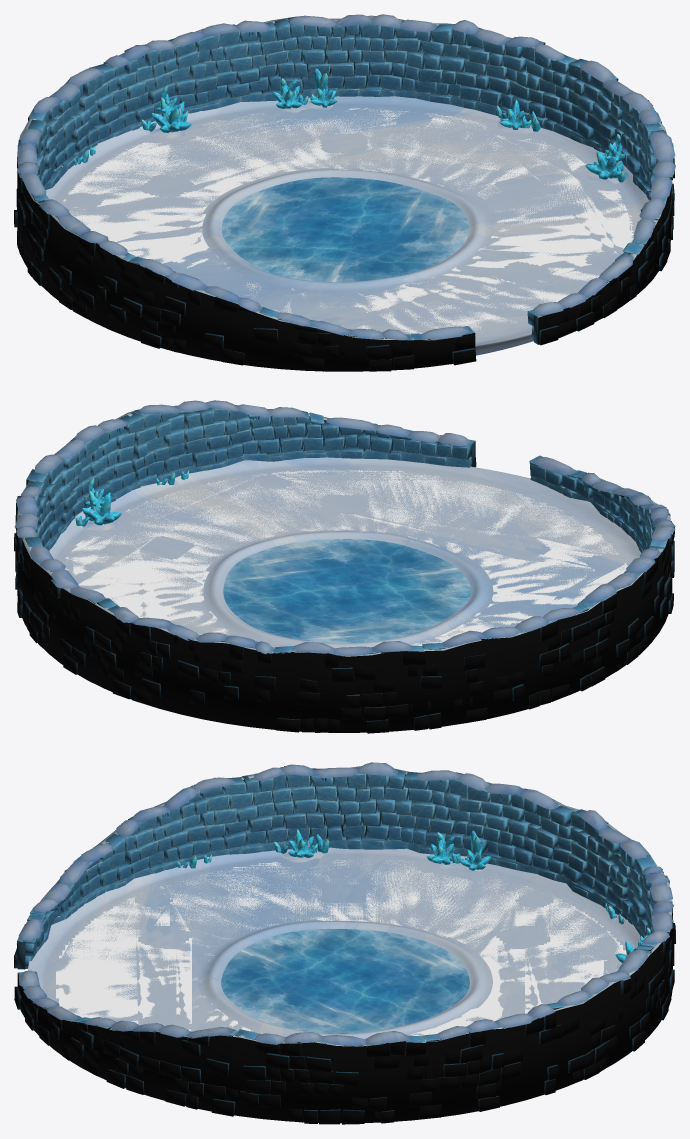
Rendered from r01_arena.glb.
3 renders of one model, top to bottom at view 1: azimuth 30°, elevation 25°; view 2: azimuth 150°, elevation 25°; view 3: azimuth 270°, elevation 25°, orthographic.
Visible parts, largest first — view 1: floor_r01_etapa1, wall_blocos_empilhados, NAV_andavel, wall_nucleo_juntas, wall_neve_acumulada, floor_lago_gelo_exterior, floor_lago_gelo_centro, torres_gemeas, torre_gelo, torre_gelo_tufo_0_1, cristais_leque; view 2: floor_r01_etapa1, wall_blocos_empilhados, wall_nucleo_juntas, NAV_andavel, floor_lago_gelo_exterior, wall_neve_acumulada, floor_lago_gelo_centro, torre_gelo; view 3: wall_blocos_empilhados, floor_r01_etapa1, wall_nucleo_juntas, NAV_andavel, floor_lago_gelo_exterior, wall_neve_acumulada, floor_lago_gelo_centro.
Part boxes in pixels (x1=…): floor_r01_etapa1: x1=46, y1=96, x2=649, y2=355; wall_blocos_empilhados: x1=14, y1=17, x2=674, y2=371; NAV_andavel: x1=62, y1=108, x2=633, y2=333; wall_nucleo_juntas: x1=17, y1=15, x2=671, y2=371; wall_neve_acumulada: x1=17, y1=14, x2=675, y2=340; floor_lago_gelo_exterior: x1=221, y1=177, x2=469, y2=282; floor_lago_gelo_centro: x1=281, y1=202, x2=408, y2=256; torres_gemeas: x1=273, y1=68, x2=337, y2=108; torre_gelo: x1=585, y1=134, x2=627, y2=182; torre_gelo_tufo_0_1: x1=151, y1=97, x2=191, y2=132; cristais_leque: x1=496, y1=99, x2=540, y2=131; floor_r01_etapa1: x1=49, y1=457, x2=641, y2=648; wall_blocos_empilhados: x1=14, y1=405, x2=674, y2=733; wall_nucleo_juntas: x1=17, y1=409, x2=671, y2=732; NAV_andavel: x1=65, y1=469, x2=627, y2=645; floor_lago_gelo_exterior: x1=223, y1=539, x2=470, y2=643; wall_neve_acumulada: x1=14, y1=400, x2=675, y2=656; floor_lago_gelo_centro: x1=282, y1=564, x2=407, y2=617; torre_gelo: x1=75, y1=478, x2=121, y2=526; wall_blocos_empilhados: x1=14, y1=766, x2=675, y2=1124; floor_r01_etapa1: x1=27, y1=847, x2=640, y2=1038; wall_nucleo_juntas: x1=17, y1=766, x2=672, y2=1123; NAV_andavel: x1=56, y1=860, x2=626, y2=1035; floor_lago_gelo_exterior: x1=221, y1=929, x2=469, y2=1033; wall_neve_acumulada: x1=18, y1=762, x2=673, y2=1046; floor_lago_gelo_centro: x1=281, y1=953, x2=406, y2=1007.
Bounding box in the file's own units: 41.82 × 6.12 × 41.78.
Materials: 6 (5 with a texture image).
